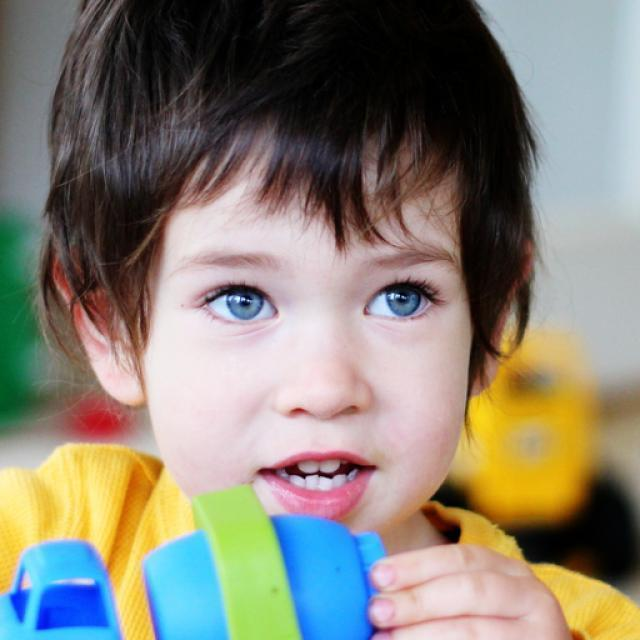0_rostro_limpio: (52, 0, 471, 519)
